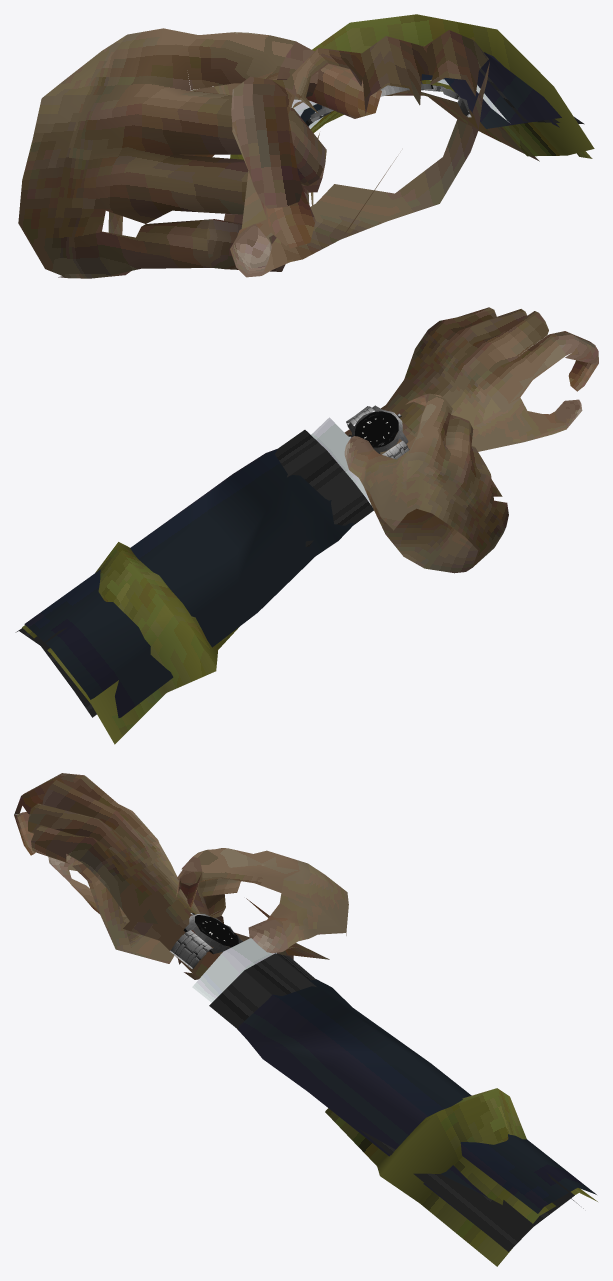
The model's file is gun.glb.
The picture shows the model from 3 angles, top to bottom: view 1: azimuth 30°, elevation 25°; view 2: azimuth 150°, elevation 25°; view 3: azimuth 270°, elevation 25°; orthographic projection. The views are drawn at different scales.
Parts seen in each view (by area): view 1: m0ClampSClampT, m5ClampSClampT, m2ClampSClampT, m10ClampSClampT, m6ClampSClampT, m13CullBothClampSClampT, m9CullBothClampSClampT, m14ClampSClampT, m3ClampSClampT, m1ClampSClampT, m17, m4 (+1 smaller); view 2: m14ClampSClampT, m0ClampSClampT, m10ClampSClampT, m3ClampSClampT, m11ClampSClampT, m2ClampSClampT, m5ClampSClampT, m7CullBothClampSClampT, m13CullBothClampSClampT, m18, m6ClampSClampT; view 3: m14ClampSClampT, m0ClampSClampT, m10ClampSClampT, m11ClampSClampT, m3ClampSClampT, m2ClampSClampT, m5ClampSClampT, m7CullBothClampSClampT, m1ClampSClampT, m13CullBothClampSClampT, m4, m6ClampSClampT (+1 smaller).
Boxes of the visible parts, left/top/right/bottom form: m0ClampSClampT: left=18, top=28, right=488, bottom=278; m5ClampSClampT: left=206, top=41, right=349, bottom=277; m2ClampSClampT: left=58, top=62, right=489, bottom=278; m10ClampSClampT: left=230, top=14, right=594, bottom=159; m6ClampSClampT: left=224, top=64, right=381, bottom=270; m13CullBothClampSClampT: left=300, top=63, right=538, bottom=128; m9CullBothClampSClampT: left=310, top=80, right=566, bottom=156; m14ClampSClampT: left=484, top=52, right=561, bottom=127; m3ClampSClampT: left=214, top=83, right=299, bottom=244; m1ClampSClampT: left=311, top=90, right=539, bottom=205; m17: left=310, top=82, right=436, bottom=120; m4: left=305, top=85, right=471, bottom=126; m14ClampSClampT: left=24, top=453, right=338, bottom=717; m0ClampSClampT: left=386, top=307, right=565, bottom=567; m10ClampSClampT: left=22, top=542, right=217, bottom=744; m3ClampSClampT: left=349, top=397, right=567, bottom=530; m11ClampSClampT: left=15, top=430, right=373, bottom=717; m2ClampSClampT: left=363, top=486, right=478, bottom=573; m5ClampSClampT: left=344, top=331, right=598, bottom=469; m7CullBothClampSClampT: left=311, top=417, right=371, bottom=505; m13CullBothClampSClampT: left=266, top=448, right=371, bottom=540; m18: left=359, top=413, right=398, bottom=447; m6ClampSClampT: left=405, top=360, right=598, bottom=406; m14ClampSClampT: left=247, top=984, right=596, bottom=1232; m0ClampSClampT: left=28, top=775, right=348, bottom=925; m10ClampSClampT: left=377, top=1088, right=597, bottom=1266; m11ClampSClampT: left=209, top=953, right=583, bottom=1251; m3ClampSClampT: left=69, top=862, right=348, bottom=947; m2ClampSClampT: left=69, top=864, right=329, bottom=963; m5ClampSClampT: left=14, top=773, right=287, bottom=964; m7CullBothClampSClampT: left=192, top=938, right=276, bottom=1002; m1ClampSClampT: left=123, top=918, right=229, bottom=978; m13CullBothClampSClampT: left=237, top=979, right=330, bottom=1039; m4: left=169, top=930, right=241, bottom=968; m6ClampSClampT: left=14, top=812, right=201, bottom=979.
Bounding box in the file's own units: 348 × 275 × 414.
23 materials, 23 textured.
